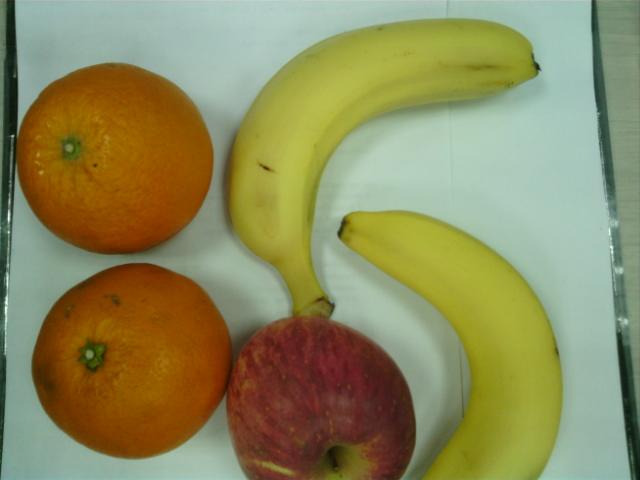normal_apple: (226, 317, 417, 480)
normal_banana: (228, 19, 539, 315), (337, 211, 561, 480)
normal_orange: (31, 264, 230, 459), (19, 63, 214, 255)
